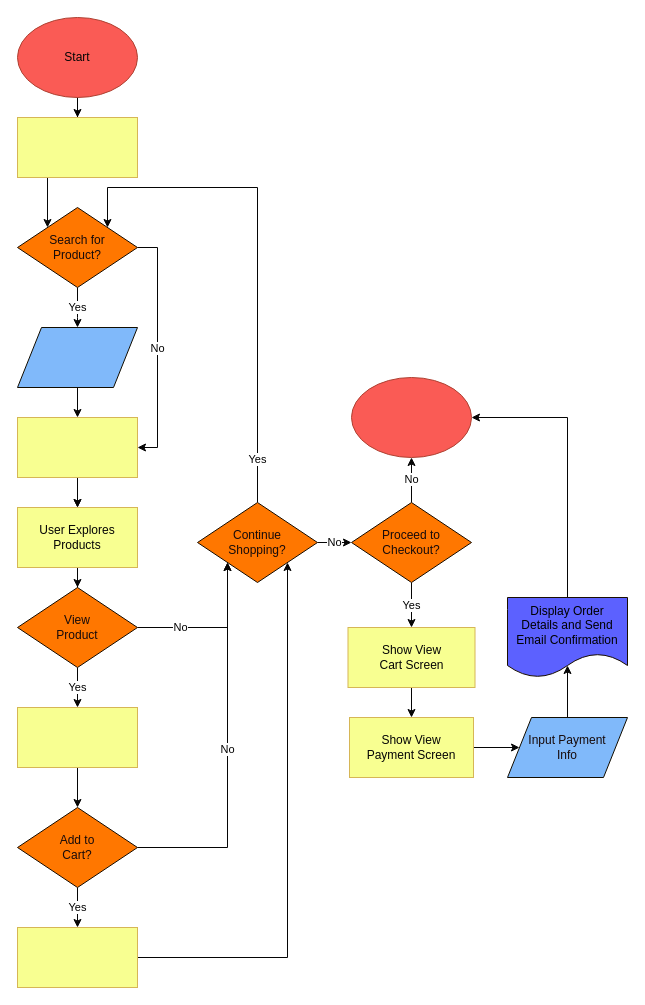
The diagram is 645 pixels wide and 1005 high, and some of its shapes have lost their labels. The centre of each missing label's shape, as x and y in pixels:
Add to Cart and Display Confirmation: (77,957)
Display Product Page: (77,737)
Display Products: (77,447)
Leave Website: (411,417)
User Enters Website: (77,147)
User Inputs Query: (77,357)
